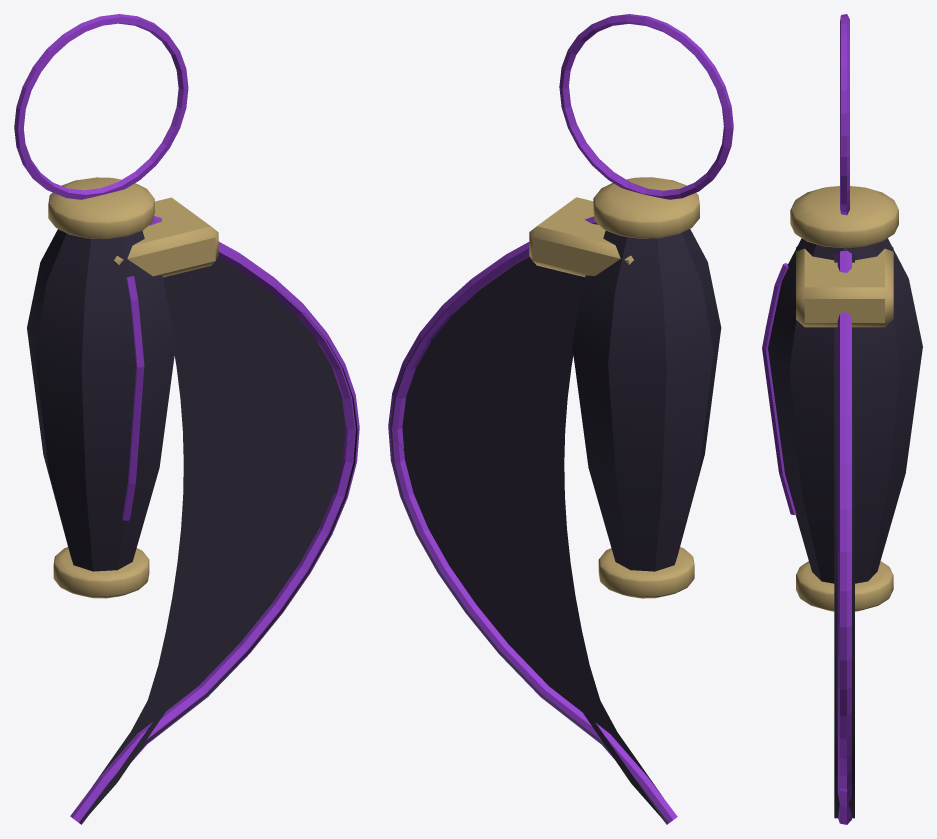
The model's file is Kit_Limb_LeagueScythe_L.glb.
The picture shows the model from 3 angles, left to right: view 1: azimuth 30°, elevation 25°; view 2: azimuth 150°, elevation 25°; view 3: azimuth 270°, elevation 25°; orthographic projection.
Visible parts, largest first — view 1: Kit_Limb_LeagueScythe_L; view 2: Kit_Limb_LeagueScythe_L; view 3: Kit_Limb_LeagueScythe_L.
Boxes of the visible parts, bbox=[...] form: Kit_Limb_LeagueScythe_L: bbox=[14, 14, 359, 824]; Kit_Limb_LeagueScythe_L: bbox=[388, 14, 733, 824]; Kit_Limb_LeagueScythe_L: bbox=[762, 14, 922, 824].
Size of the model in its own units: 0.2735 by 0.6103 by 0.1096.
